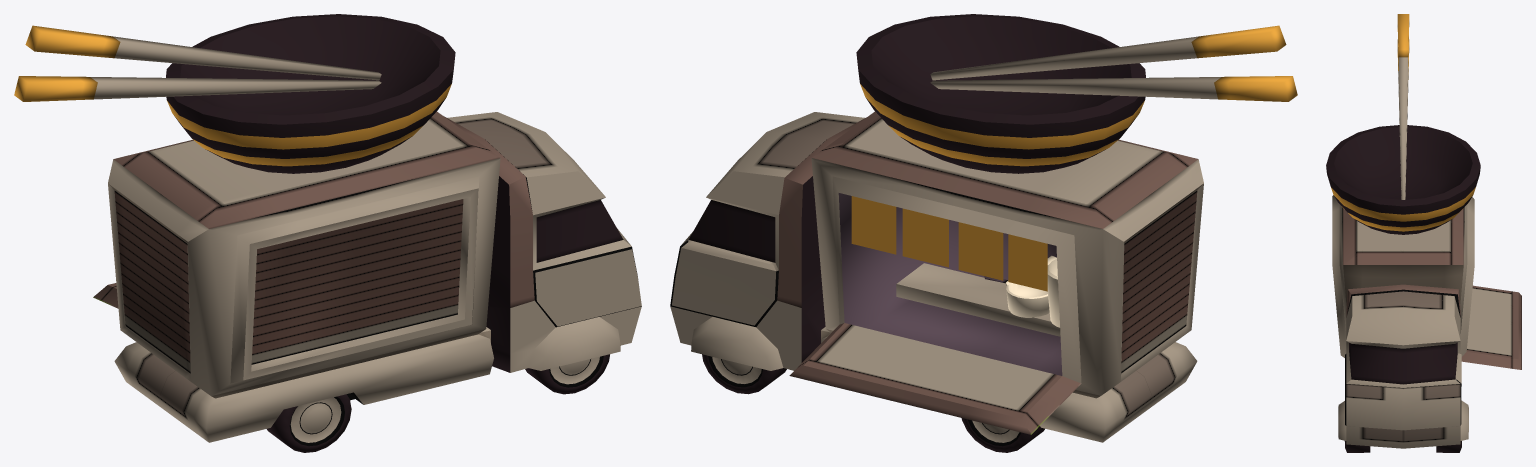
The model's file is RamenTruck.fbx.
3 views of the same model, side by side, from view 1: azimuth 30°, elevation 25°; view 2: azimuth 150°, elevation 25°; view 3: azimuth 270°, elevation 25° (orthographic). The views are drawn at different scales.
Visible parts, largest first — view 1: Truck; view 2: Truck; view 3: Truck.
Boxes of the visible parts, x1,y1,x2,y2 form: Truck: [14, 14, 641, 452]; Truck: [670, 14, 1297, 452]; Truck: [1326, 14, 1521, 452].
Size of the model in its own units: 1017 by 743 by 463.
